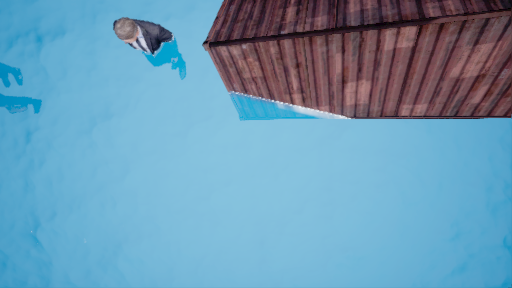person: (114, 11, 185, 86)
